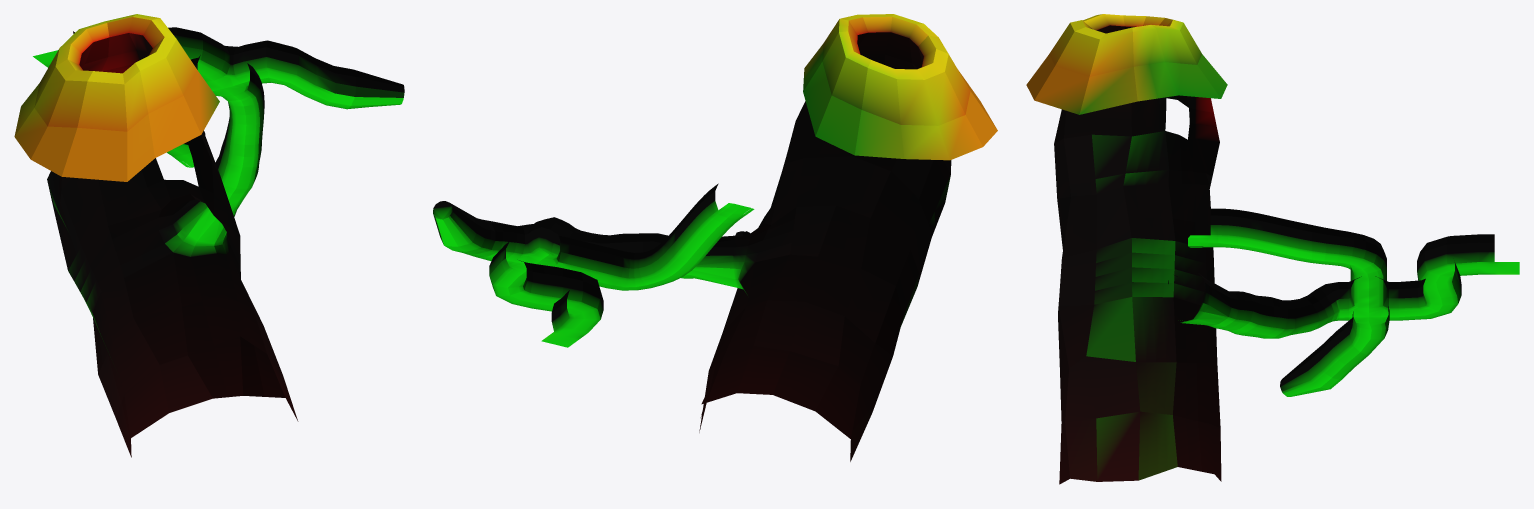
The model's file is volcanic_cave.glb.
3 renders of one model, left to right at view 1: azimuth 30°, elevation 25°; view 2: azimuth 150°, elevation 25°; view 3: azimuth 270°, elevation 25°, orthographic. The views are drawn at different scales.
Visible parts, largest first — view 1: Volcanic_Cave, Volcanic_Cave_Top; view 2: Volcanic_Cave, Volcanic_Cave_Top; view 3: Volcanic_Cave, Volcanic_Cave_Top.
Boxes of the visible parts, x1,y1,x2,y2 form: Volcanic_Cave: (33, 27, 404, 457); Volcanic_Cave_Top: (14, 14, 219, 181); Volcanic_Cave: (433, 32, 951, 461); Volcanic_Cave_Top: (803, 14, 997, 160); Volcanic_Cave: (1054, 25, 1519, 484); Volcanic_Cave_Top: (1026, 14, 1227, 114).
Bounding box in the file's own units: 51.34 × 49.63 × 49.09.
